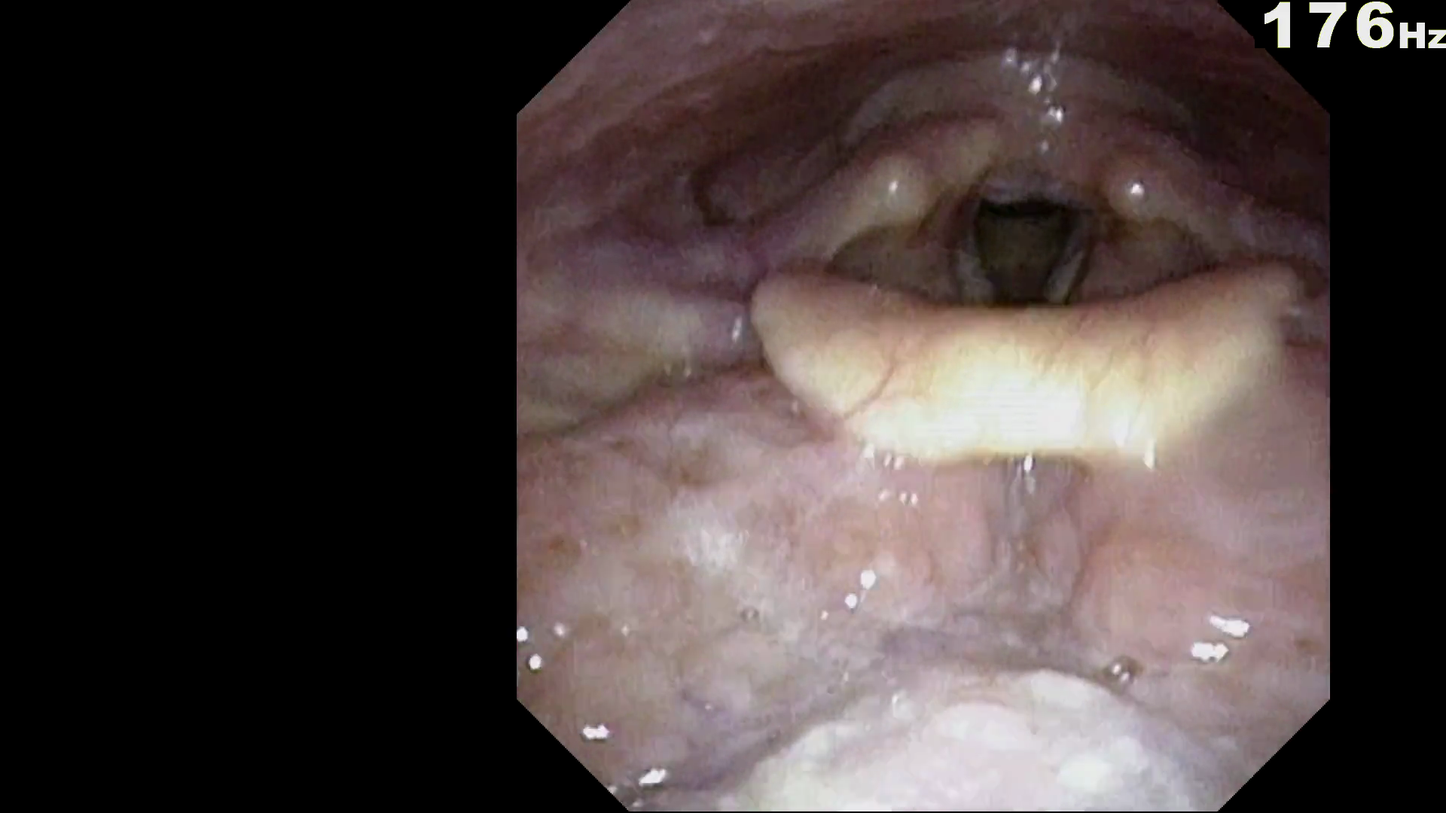epiglottis: (728, 210, 1314, 494)
trachea: (955, 182, 1102, 336)
